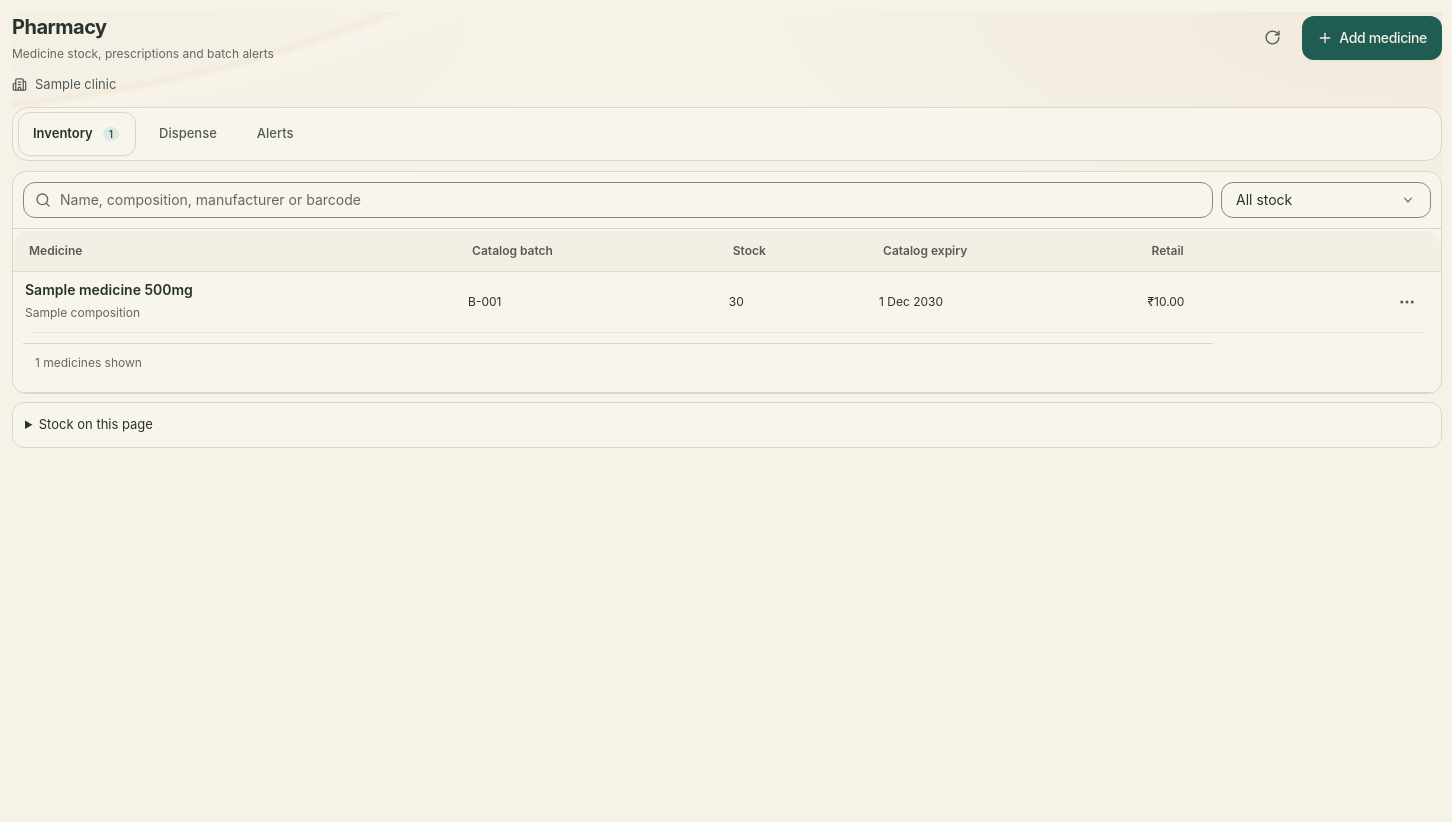
Scenario: keeps inventory usable when the independent prescription read fails
Expected: the button "Add medicine" is enabled, [1302, 16, 1442, 60]
Click the tab "Dispense" at (188,134), box [143, 112, 233, 156]
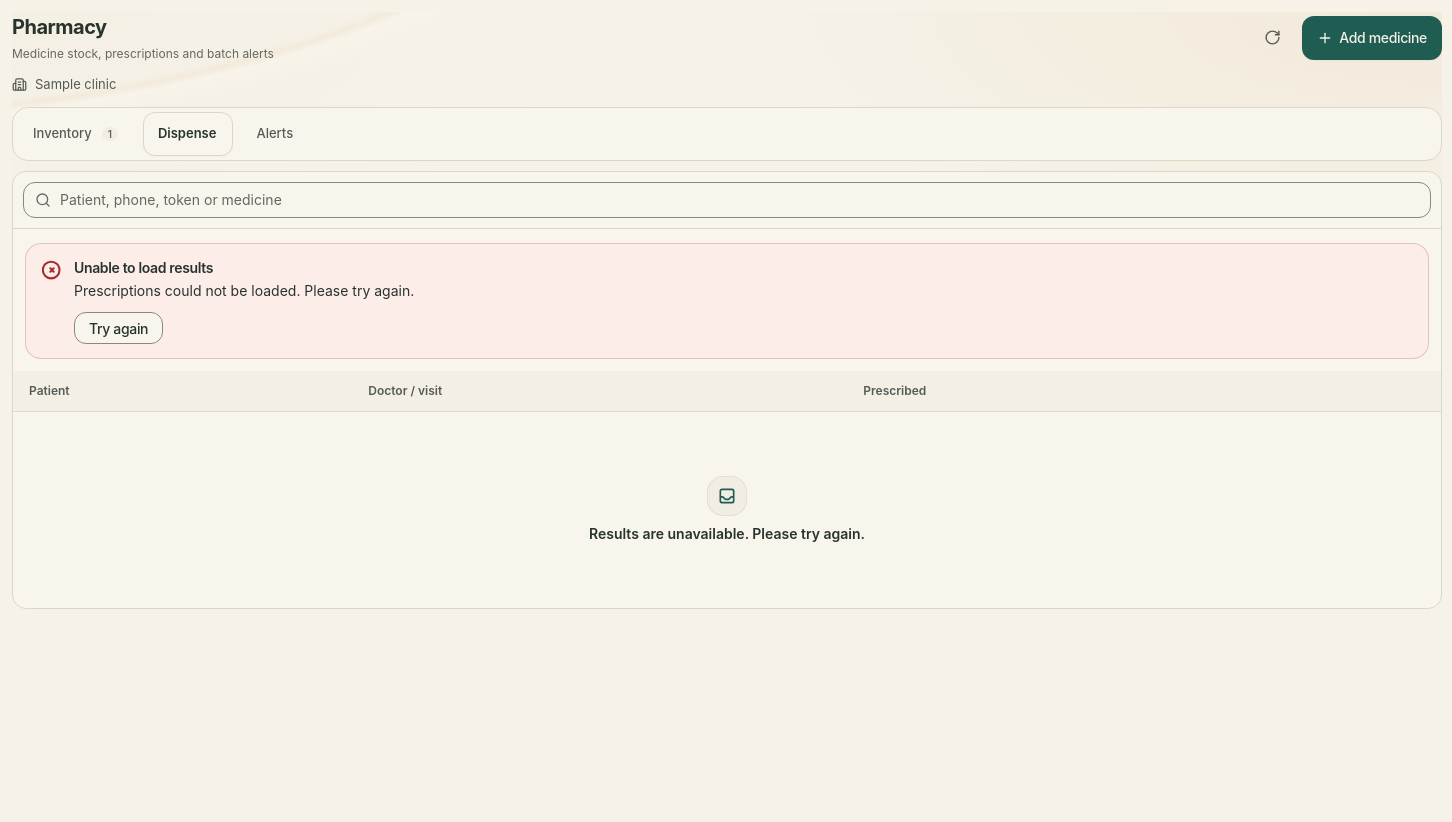
Now the text "Prescriptions could not be loaded. Please try again." is shown, box [74, 282, 414, 298]
